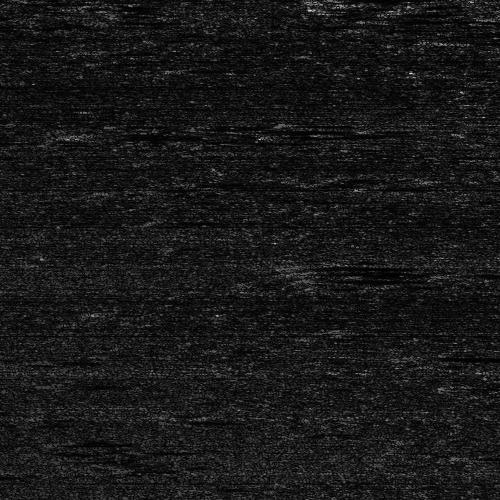object: (34, 130, 139, 139), (370, 353, 463, 360), (277, 262, 350, 269), (261, 268, 334, 275), (195, 127, 258, 132), (445, 453, 500, 458), (423, 271, 476, 276), (293, 276, 346, 281), (352, 18, 405, 21)
shadow: (87, 130, 193, 139), (314, 262, 422, 269), (298, 268, 405, 275), (227, 127, 374, 132), (417, 353, 500, 360), (320, 276, 428, 281), (379, 18, 500, 21), (449, 271, 500, 276), (477, 453, 500, 458)
